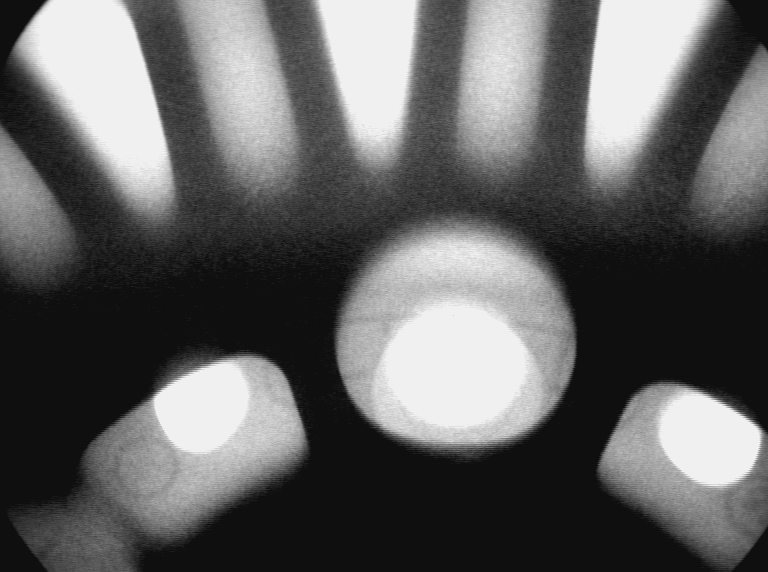defect: (446, 430, 492, 462)
